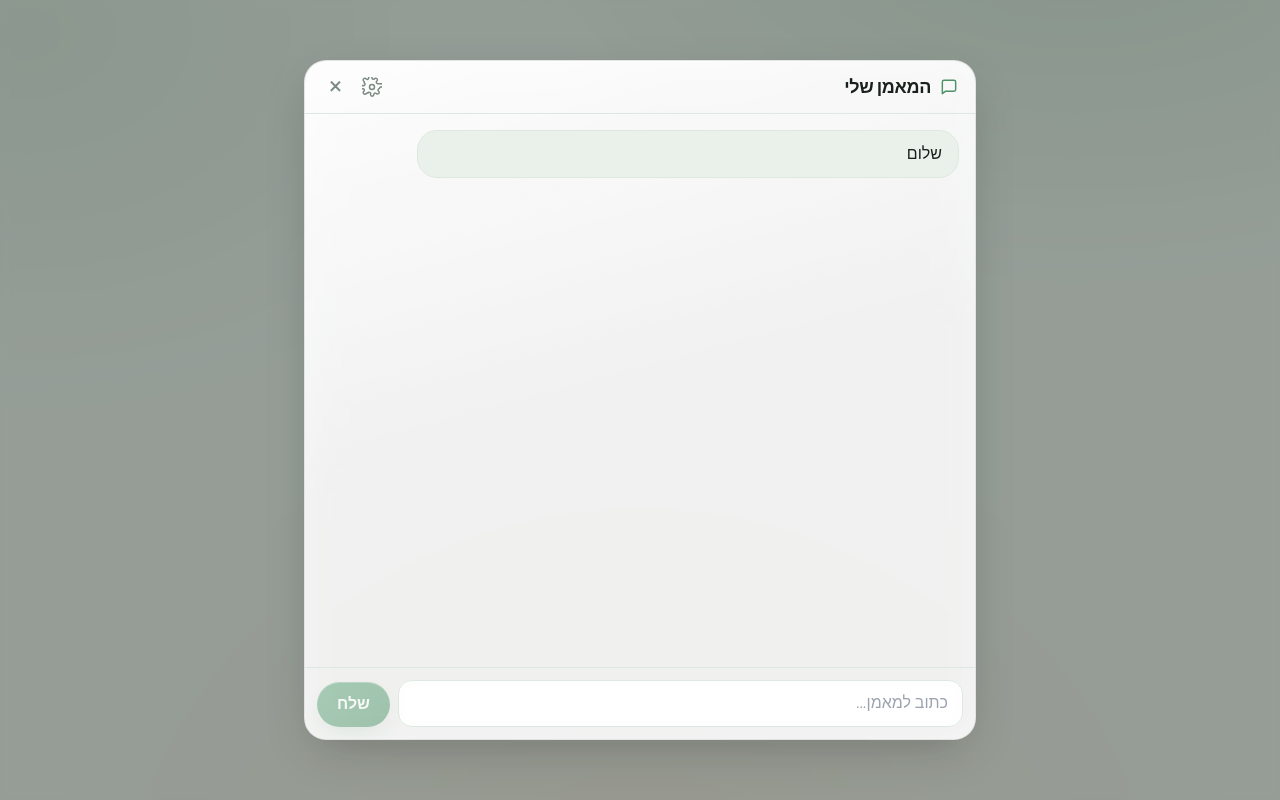
Test case: sending a message › shows the reply and accepts the next message afterwards
In the text box with placeholder "כתוב למאמן…": [680, 704] box [398, 680, 963, 727], type "ראשונה"
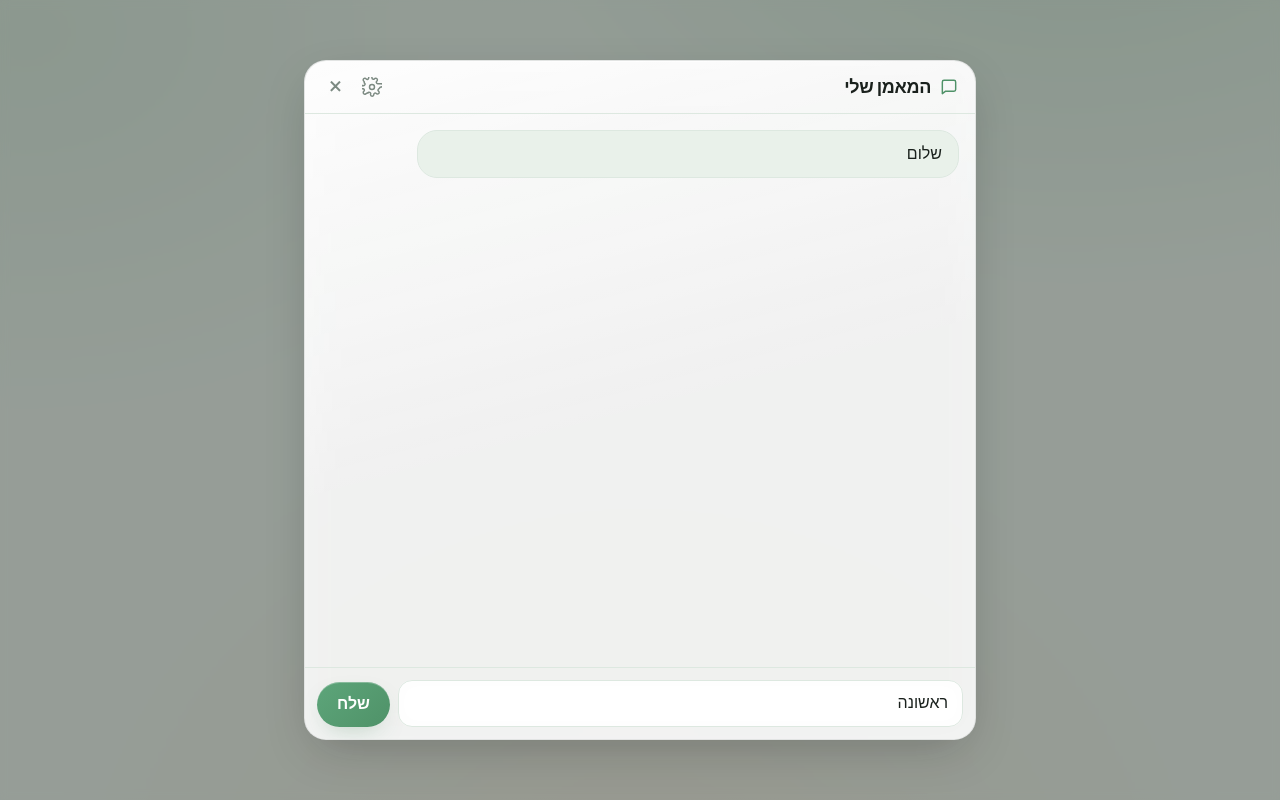
Click the button "שלח": [353, 705] box [317, 682, 390, 727]
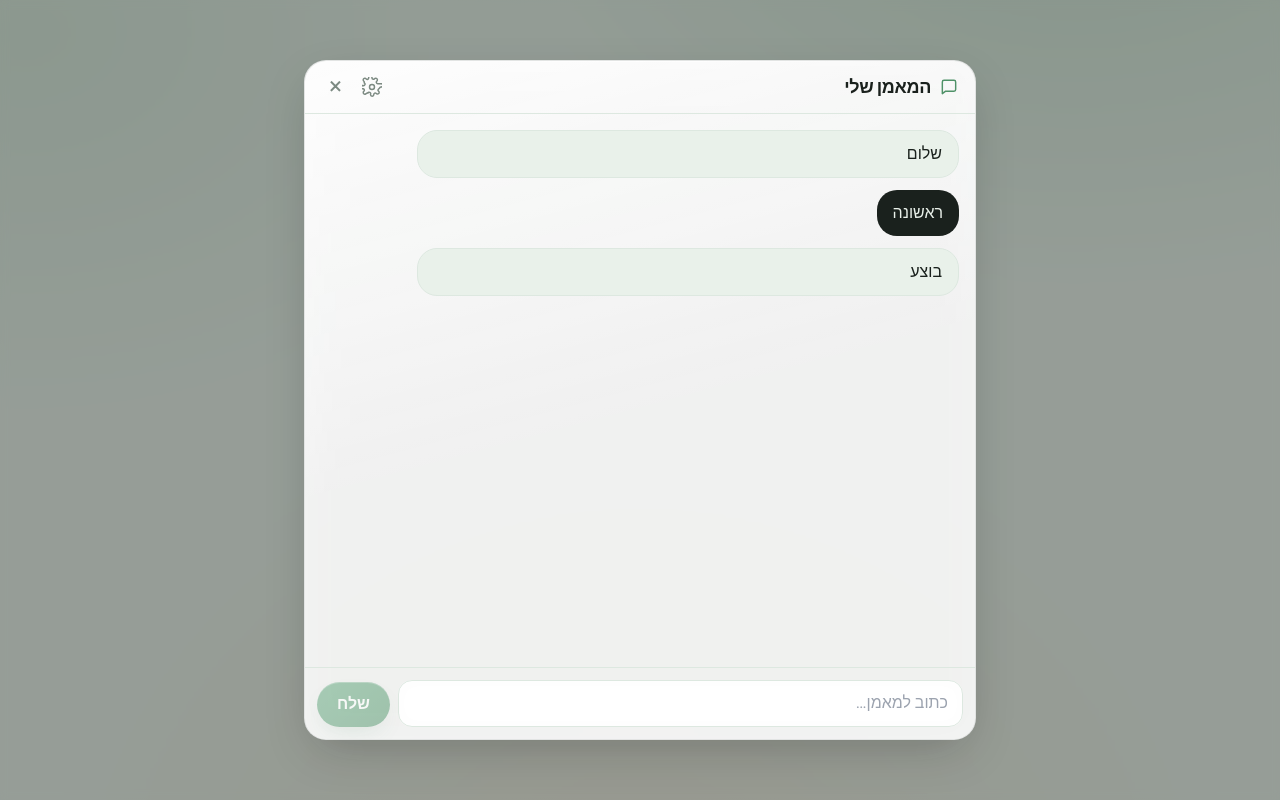
Result: the text "בוצע" is shown at [417, 248, 959, 296]
In the text box with placeholder "כתוב למאמן…": [680, 704] box [398, 680, 963, 727], type "שנייה"
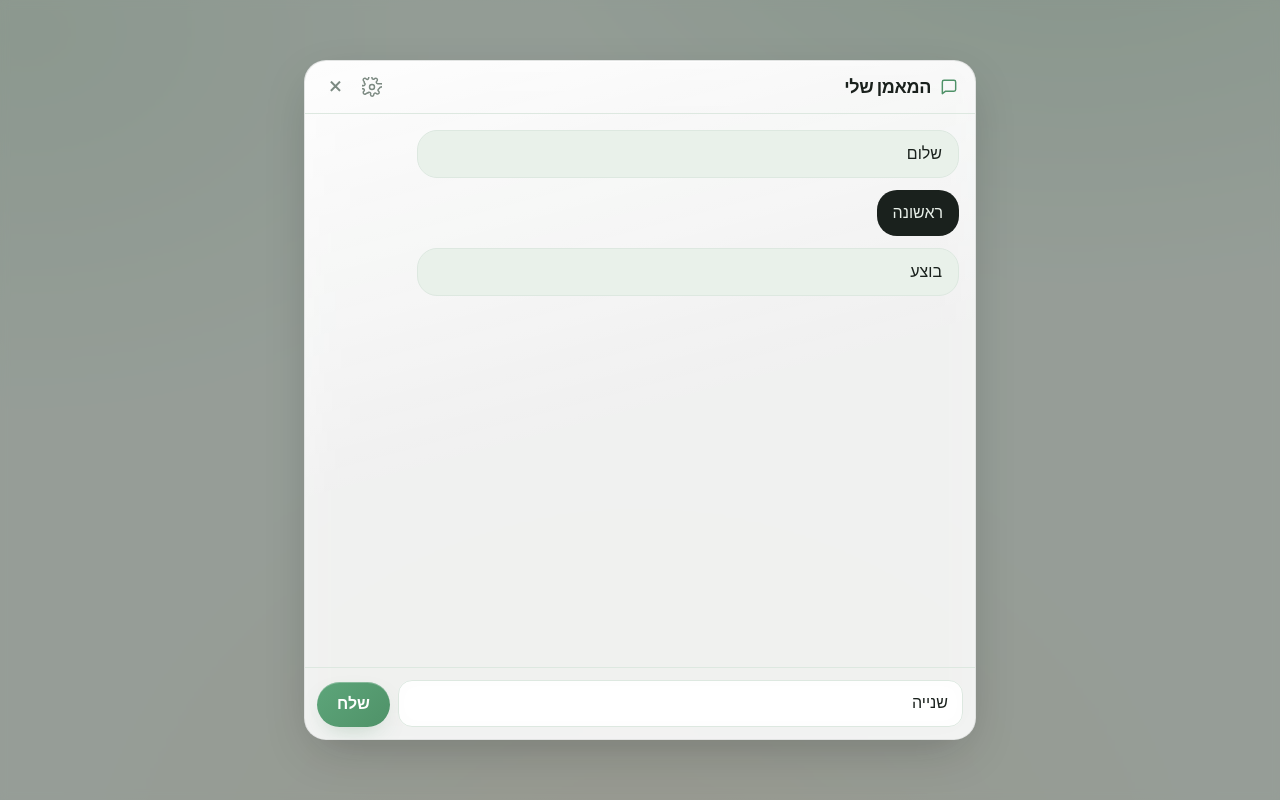
Click the button "שלח": [353, 705] box [317, 682, 390, 727]
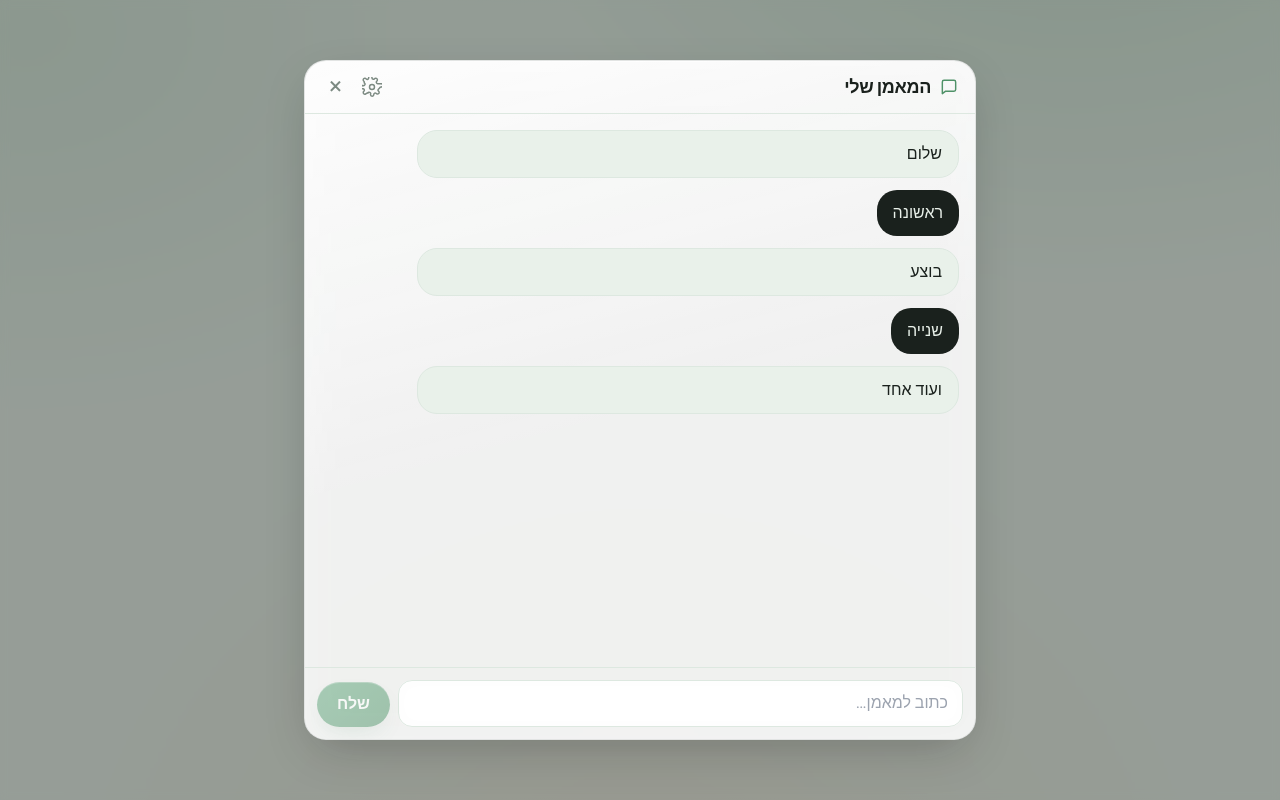
Result: the text "ועוד אחד" is shown at [417, 366, 959, 414]
